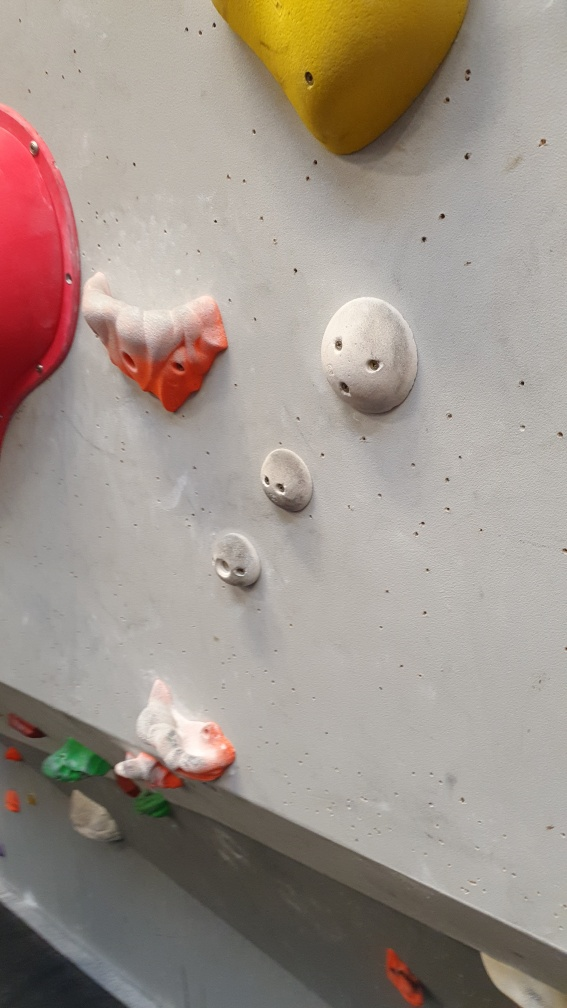Jug: (76, 267, 232, 418), (134, 677, 237, 786)
Sloper: (320, 295, 416, 422), (258, 445, 314, 516), (208, 532, 261, 588)
